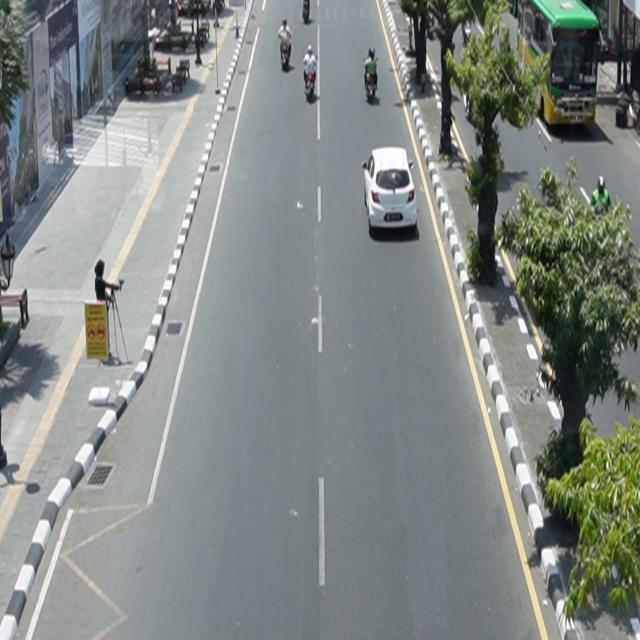bus: (516, 1, 602, 128)
car: (362, 147, 418, 233)
